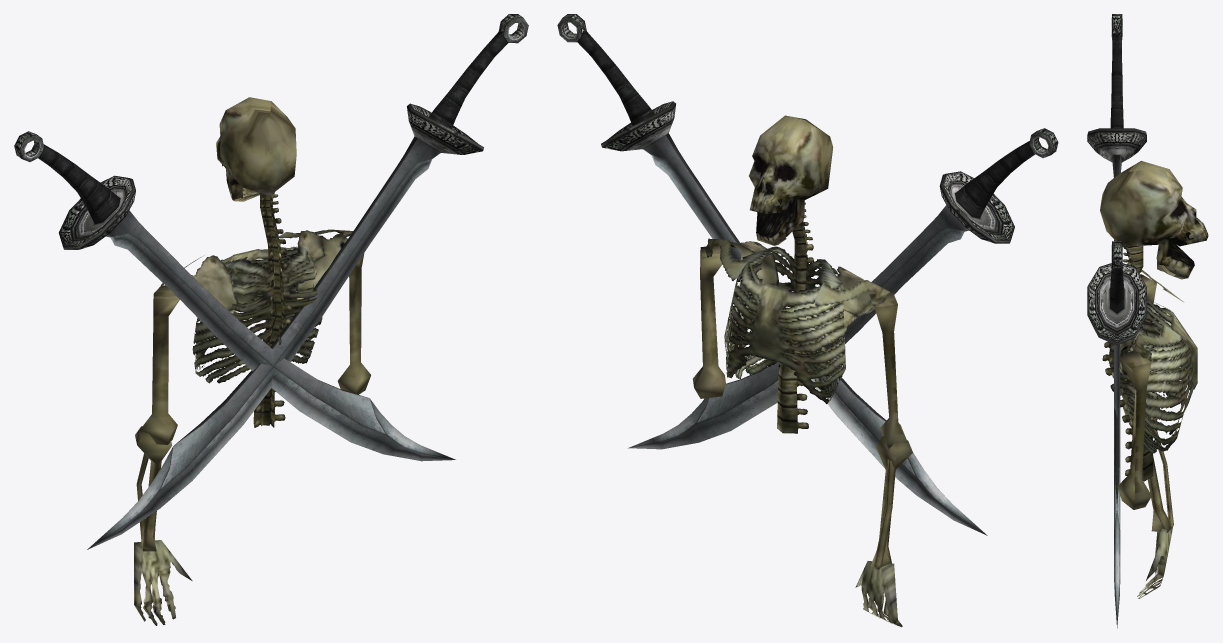
File: KM_PIRATE_SKULL.glb
The picture shows the model from 3 angles, left to right: view 1: azimuth 30°, elevation 25°; view 2: azimuth 150°, elevation 25°; view 3: azimuth 270°, elevation 25°; orthographic projection. The views are drawn at different scales.
Parts seen in each view (by area): view 1: Mesh; view 2: Mesh; view 3: Mesh.
Part boxes in pixels (<box>): Mesh: <box>14,14,528,625</box>; Mesh: <box>557,14,1058,627</box>; Mesh: <box>1087,14,1208,628</box>.
Size of the model in its own units: 1.16 by 1.16 by 0.2477.
Materials: 6 (6 with a texture image).
